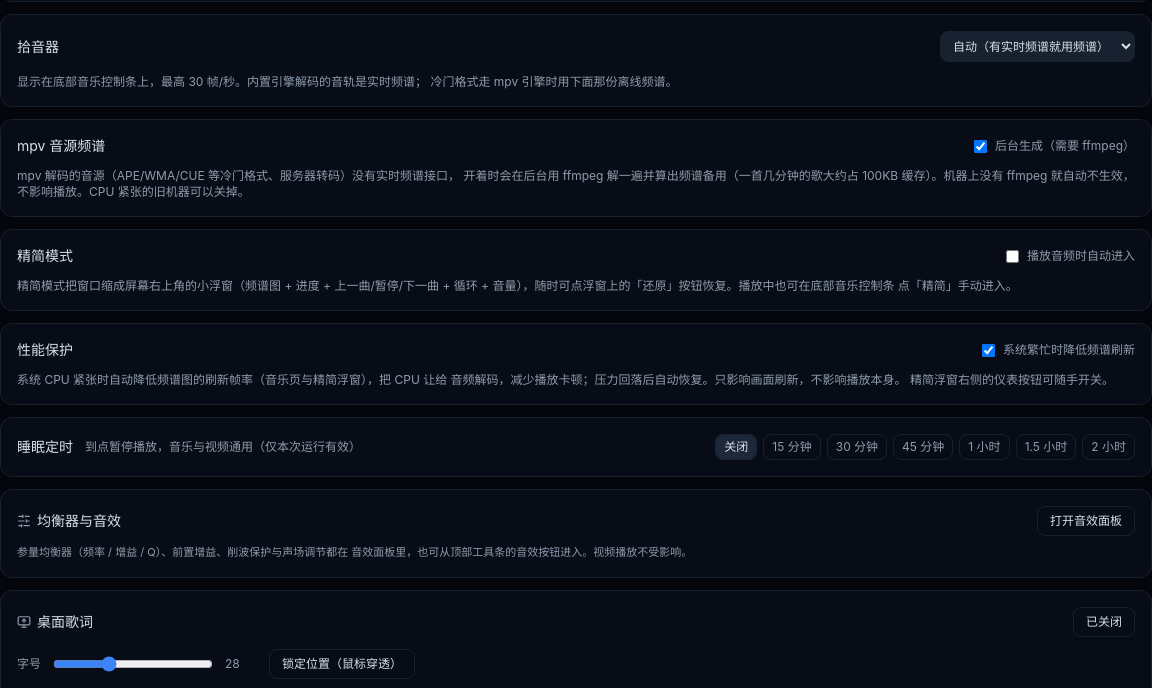
Test: sleep timer UI (P2) › cancels with 关闭 / 取消定时
This screenshot has width=1152, height=688.
(page scrolled)
Click the button "15 分钟": (792, 447) [763,434,821,460]
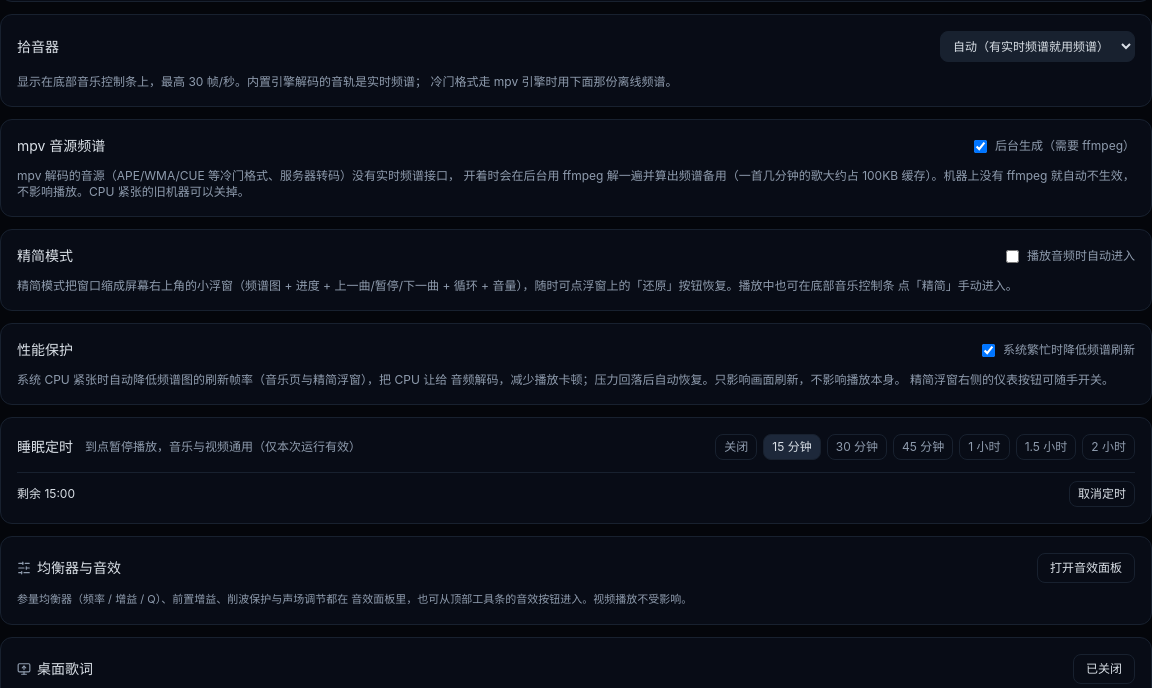
Click the button "取消定时": (1102, 494) [1069,481,1135,507]
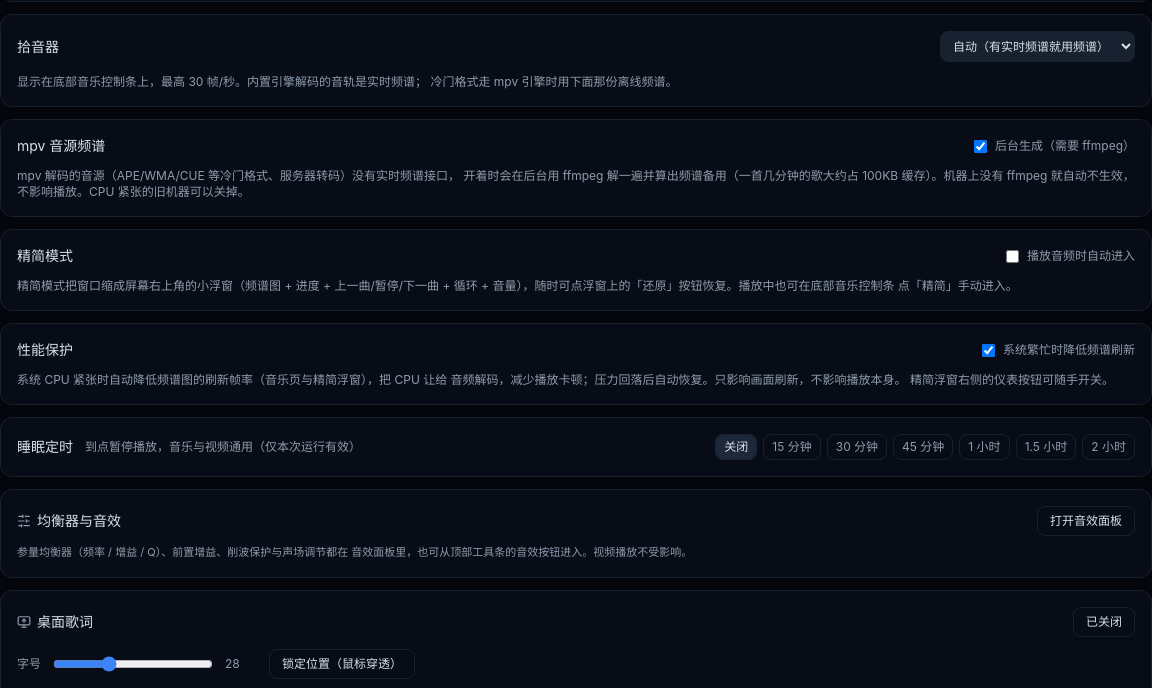
Expected: the text "剩余" is gone
